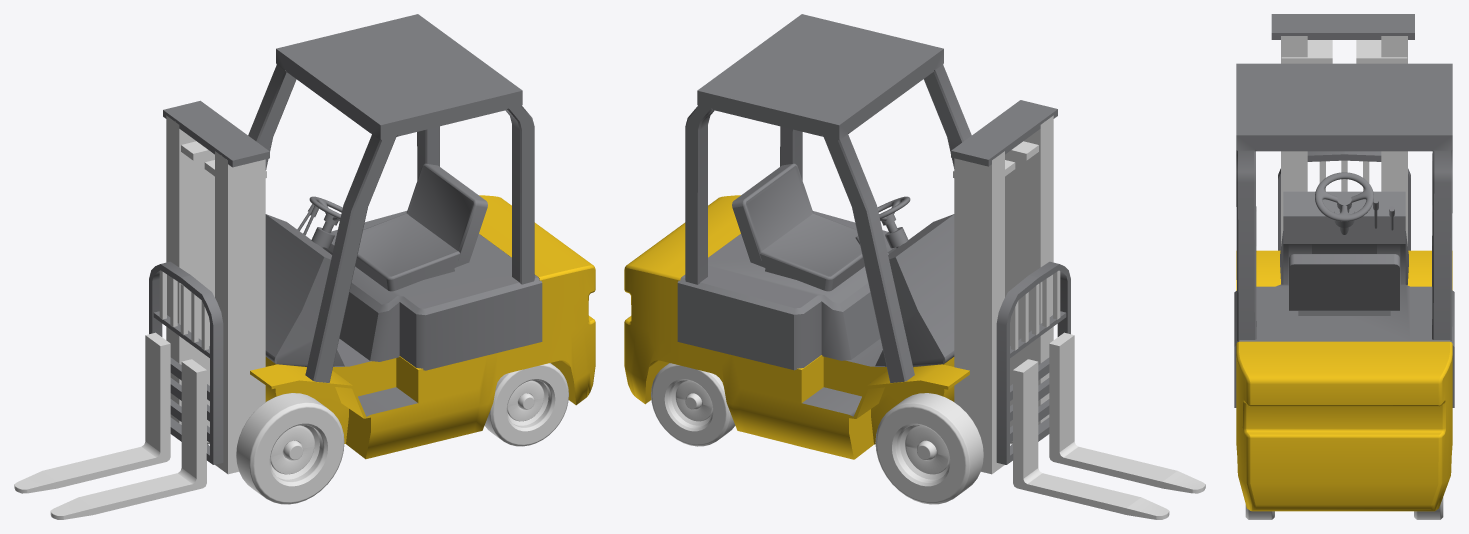
Rendered from forklift.glb.
3 renders of one model, left to right at view 1: azimuth 30°, elevation 25°; view 2: azimuth 150°, elevation 25°; view 3: azimuth 270°, elevation 25°, orthographic. The views are drawn at different scales.
Visible parts, largest first — view 1: Cube_1.001; view 2: Cube_1.001; view 3: Cube_1.001.
Boxes of the visible parts, box(x1,y1,x2,y2) form: Cube_1.001: box(14, 14, 595, 519); Cube_1.001: box(624, 14, 1205, 519); Cube_1.001: box(1234, 14, 1454, 519).
Size of the model in its own units: 3.82 by 2.57 by 1.37.
